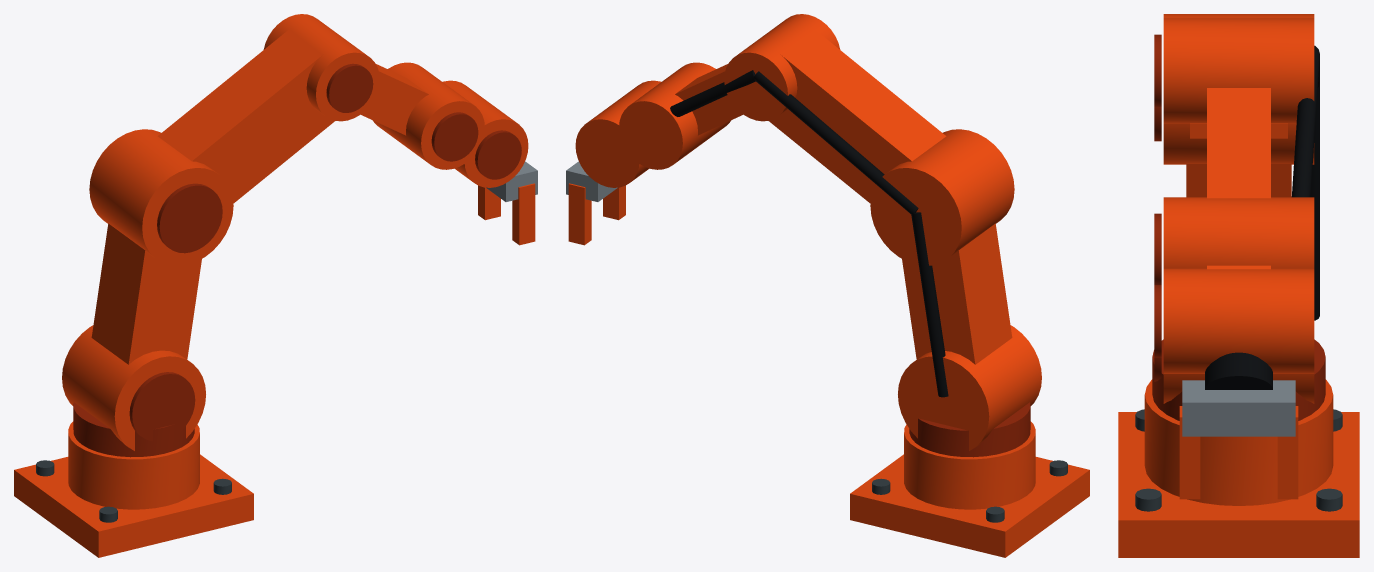
The model's file is industrial_arm.dae.
3 views of the same model, side by side, from view 1: azimuth 30°, elevation 25°; view 2: azimuth 150°, elevation 25°; view 3: azimuth 270°, elevation 25° (orthographic). The views are drawn at different scales.
Parts seen in each view (by area): view 1: industrial_arm; view 2: industrial_arm; view 3: industrial_arm.
Part boxes in pixels (x1,y1,x2,y2): industrial_arm: (14,14,537,557); industrial_arm: (566,14,1089,557); industrial_arm: (1118,14,1359,557).
Size of the model in its own units: 2.02 by 0.64 by 1.79.
